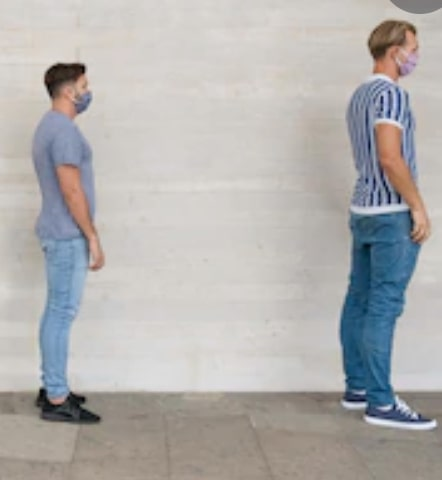Good: (32, 19, 438, 431)
